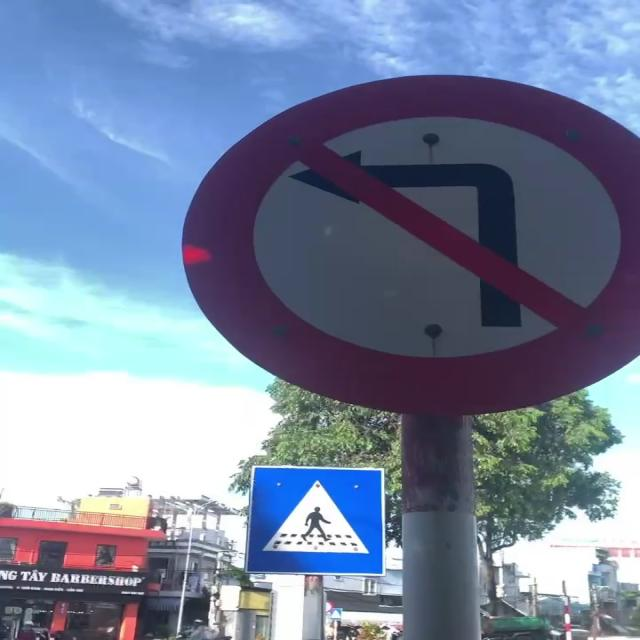Cam_Re_Trai: (177, 72, 638, 440)
